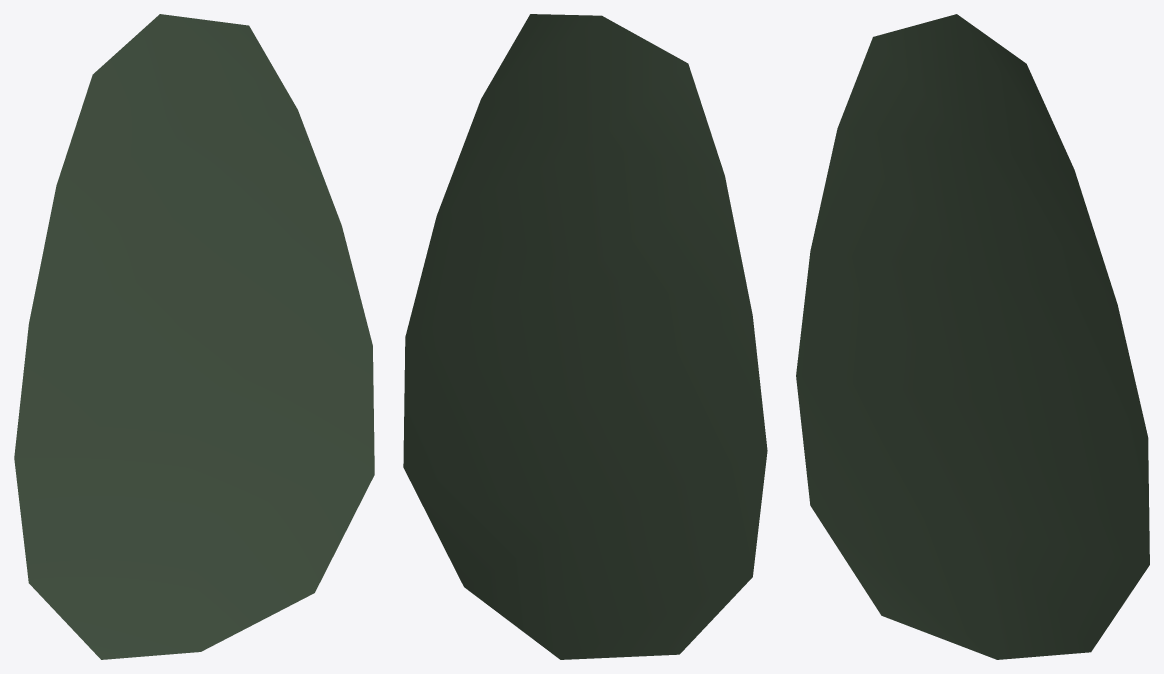
Rendered from duck_feather_flight_tertiary_042.obj.
3 renders of one model, left to right at view 1: azimuth 30°, elevation 25°; view 2: azimuth 150°, elevation 25°; view 3: azimuth 330°, elevation 25°, orthographic. The views are drawn at different scales.
Visible parts, largest first — view 1: feather_flight_tertiary_042; view 2: feather_flight_tertiary_042; view 3: feather_flight_tertiary_042.
Part boxes in pixels (x1,y1,x2,y2): feather_flight_tertiary_042: (14, 14, 374, 659); feather_flight_tertiary_042: (403, 14, 767, 659); feather_flight_tertiary_042: (796, 14, 1149, 659).
Size of the model in its own units: 0.0145 by 0.0249 by 0.000633.
